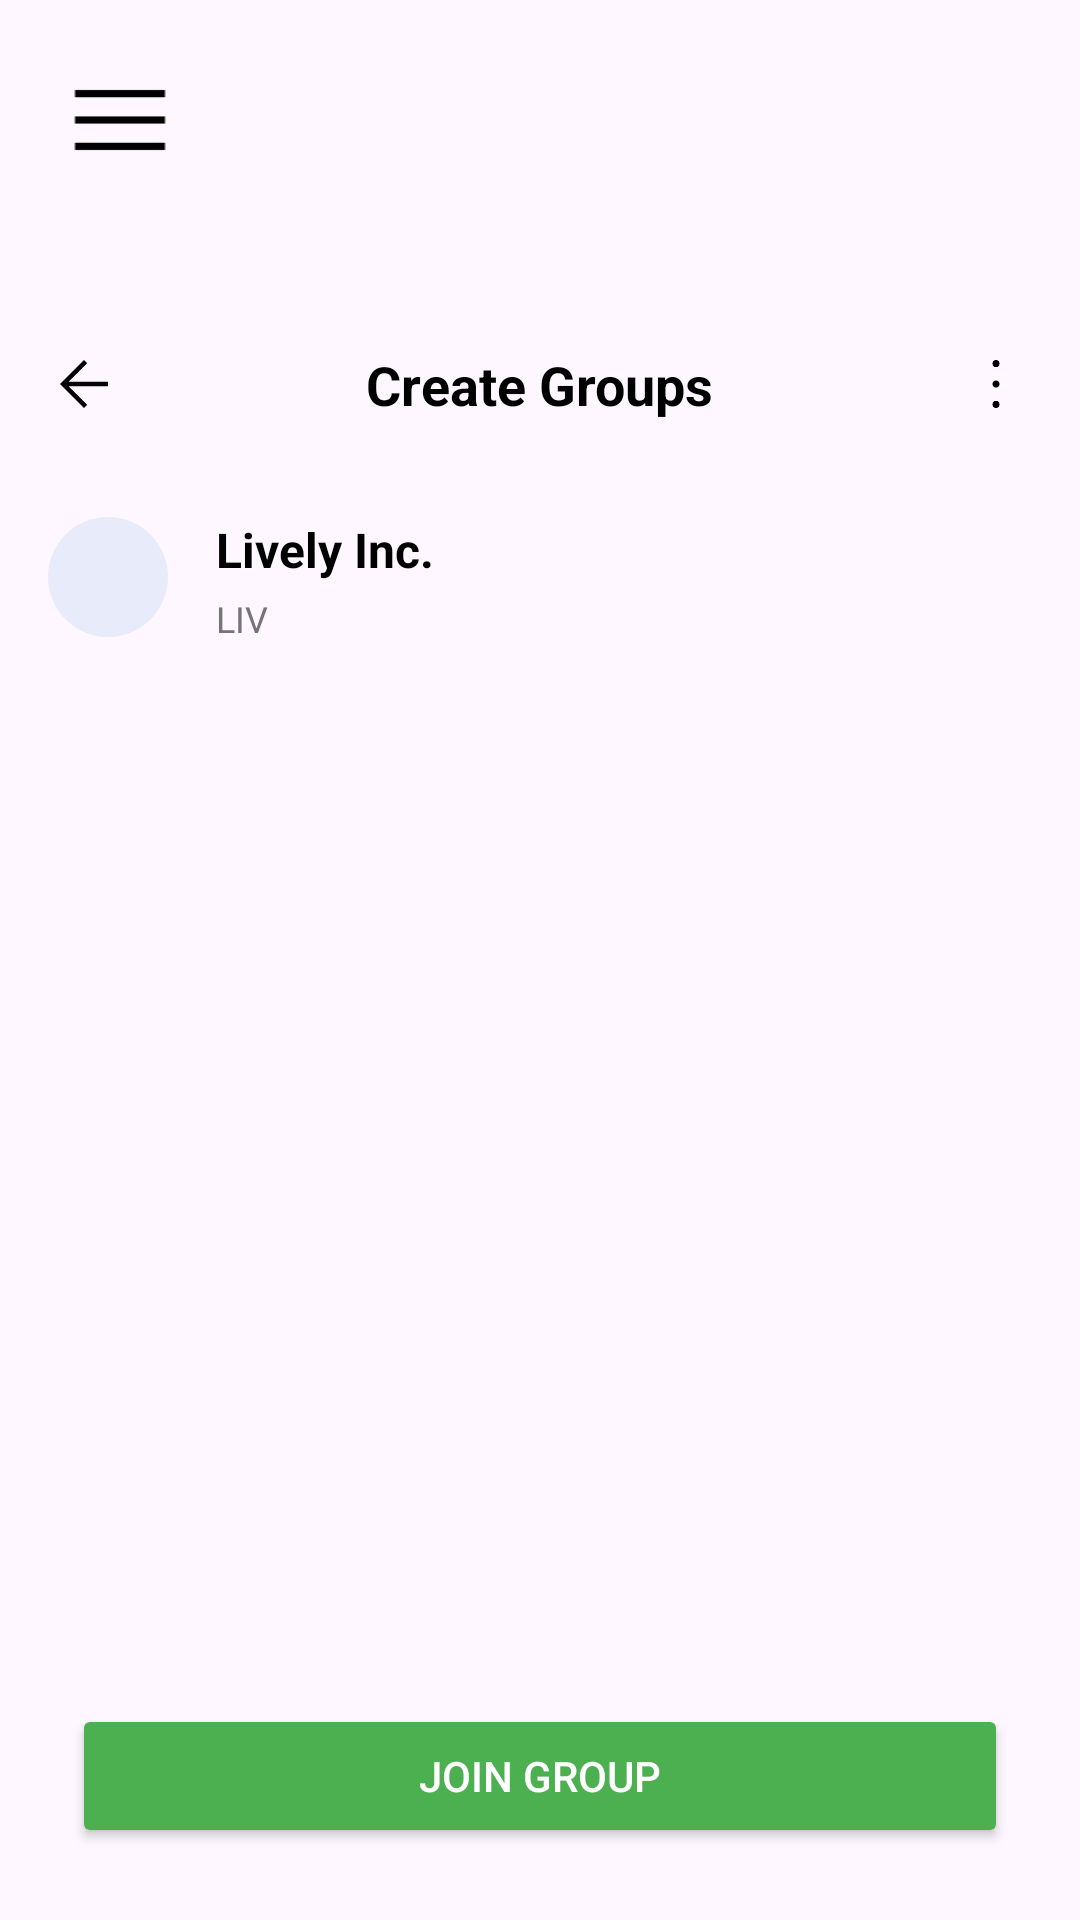

Icon bounding boxes for this 1080px x 1920px phone screenshot, format box=[x1, y1, x2, y2]:
bacck: box=[60, 360, 108, 408]
menu: box=[74, 90, 166, 150]
more: box=[992, 360, 1000, 408]
